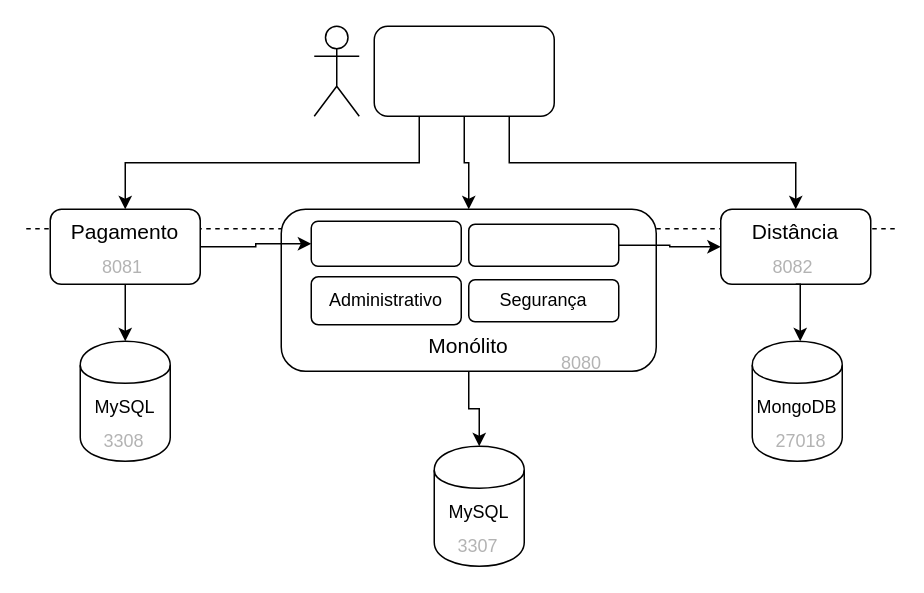
Some shapes in this 924 by 593 pixel diagram are drawn without their labels. The shapes that lost their labels are listed below. From the top down, each one's centre as x and y in pixels, then its label:
(x=463, y=70): UI
(x=385, y=243): Pedido
(x=543, y=244): Restaurante
